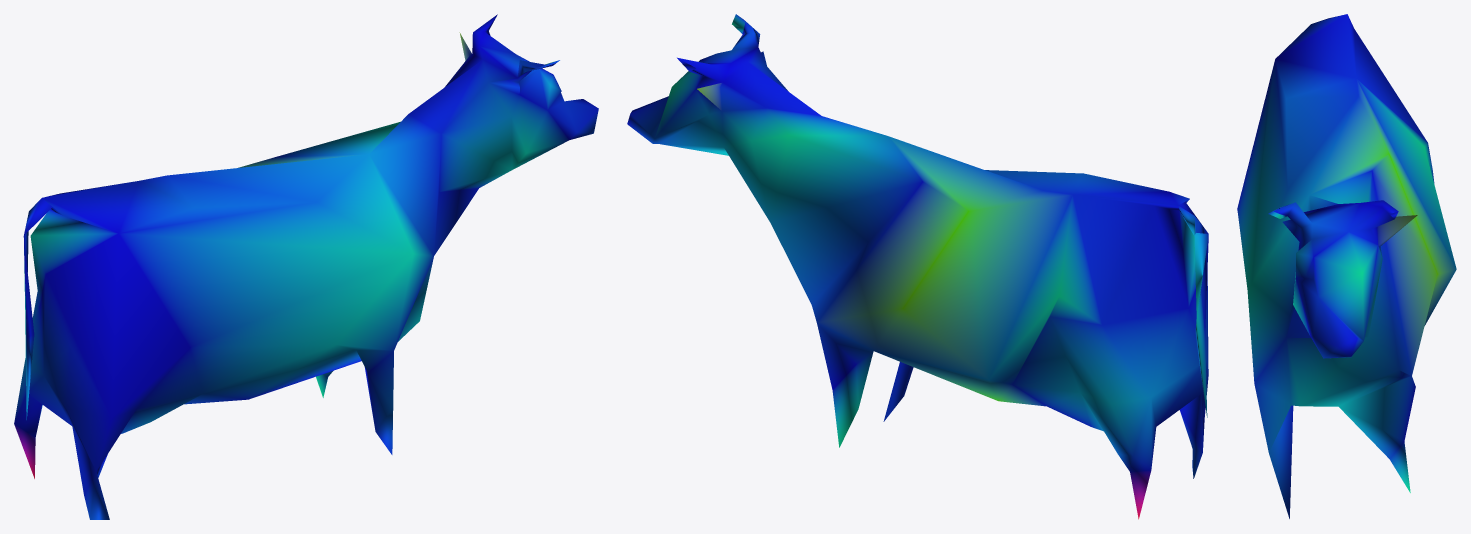
Rendered from cow_jnd_reference.obj.
3 renders of one model, left to right at view 1: azimuth 30°, elevation 25°; view 2: azimuth 150°, elevation 25°; view 3: azimuth 270°, elevation 25°, orthographic. The views are drawn at different scales.
Size of the model in its own units: 1.57 by 0.9518 by 0.4853.
